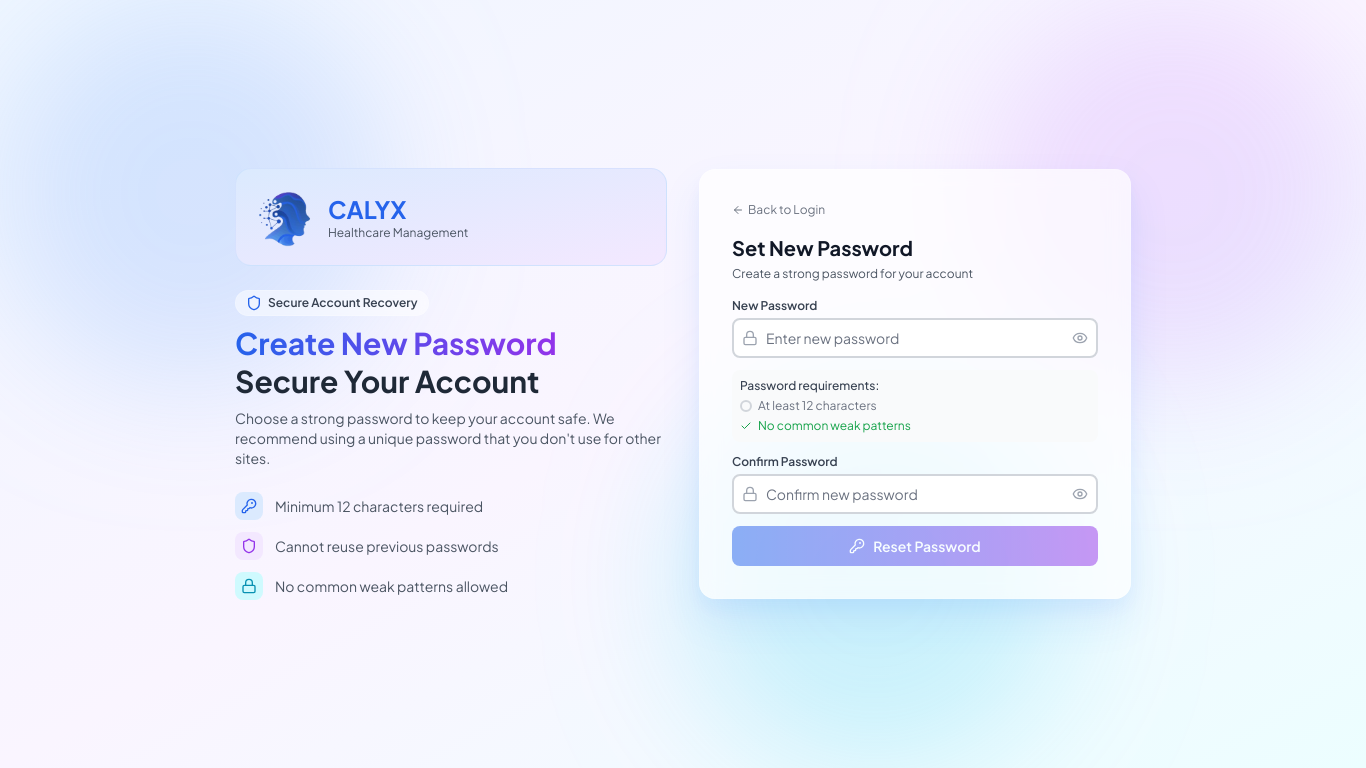
Test: ResetPassword Page › submits form and shows success message
Use password without weak patterns (no 'password', '123456', 'qwerty', 'admin', 'letmein')
In the password field with placeholder "Enter new password": (915, 338) left=732, top=318, right=1098, bottom=358, type "StrongPass!@#12"
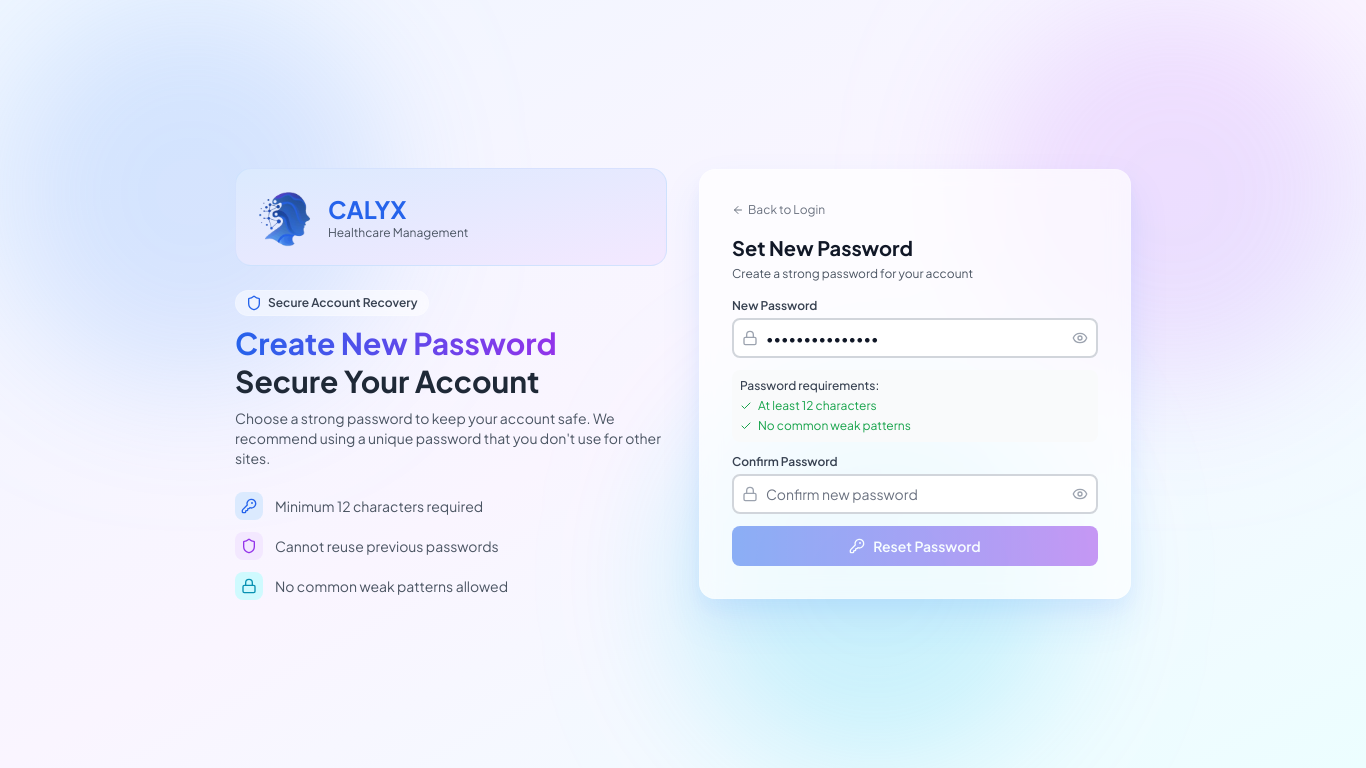
In the password field with placeholder "Confirm new password": (915, 494) left=732, top=474, right=1098, bottom=514, type "StrongPass!@#12"
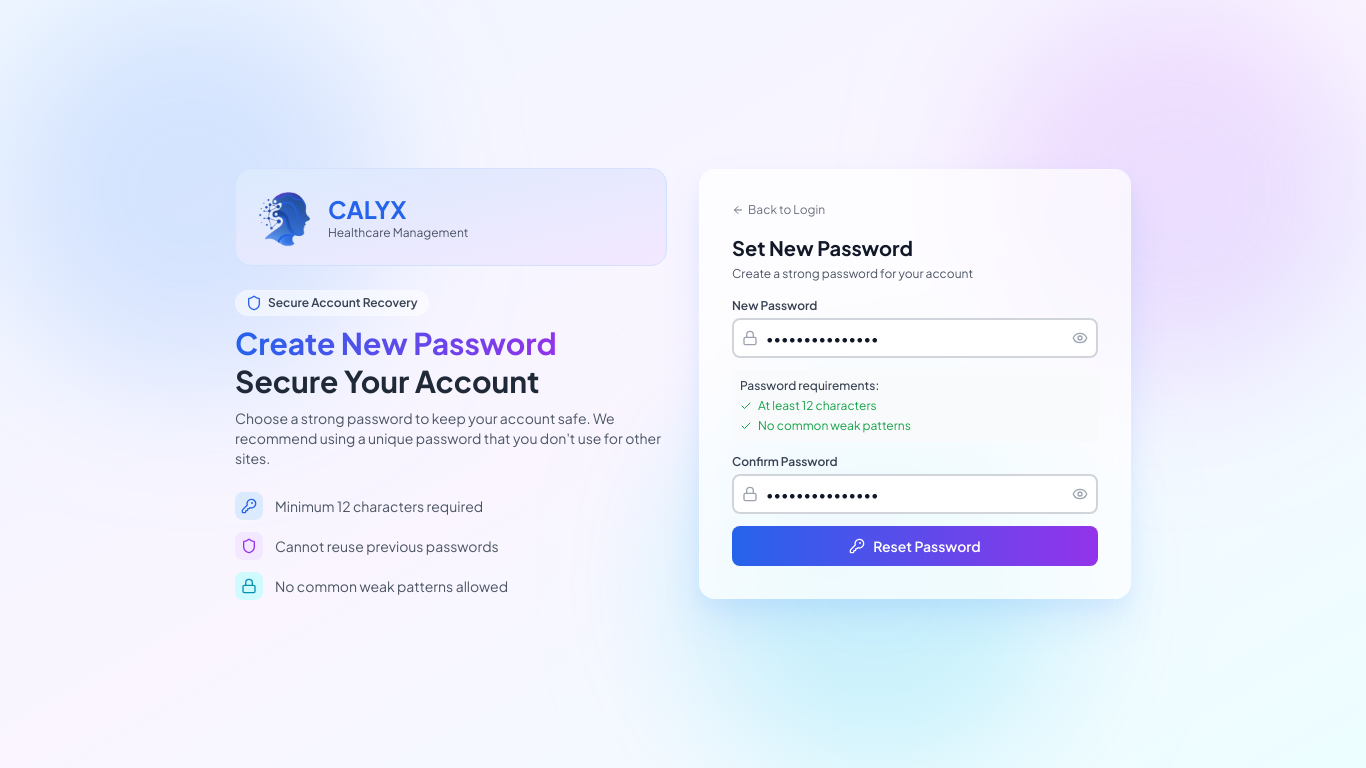
Click the button "Reset Password": (915, 546) left=732, top=526, right=1098, bottom=566
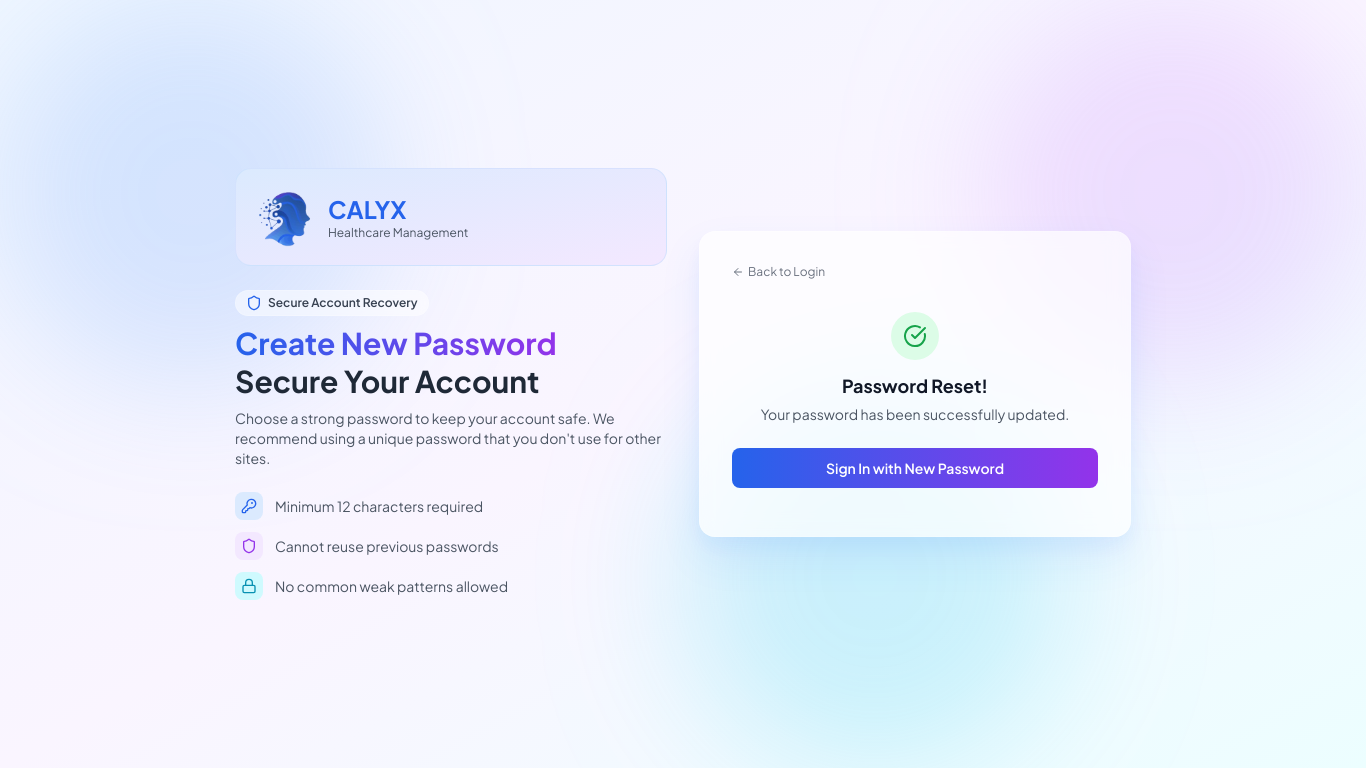
expect the heading "Password Reset!" is shown: met, box left=842, top=374, right=988, bottom=397
